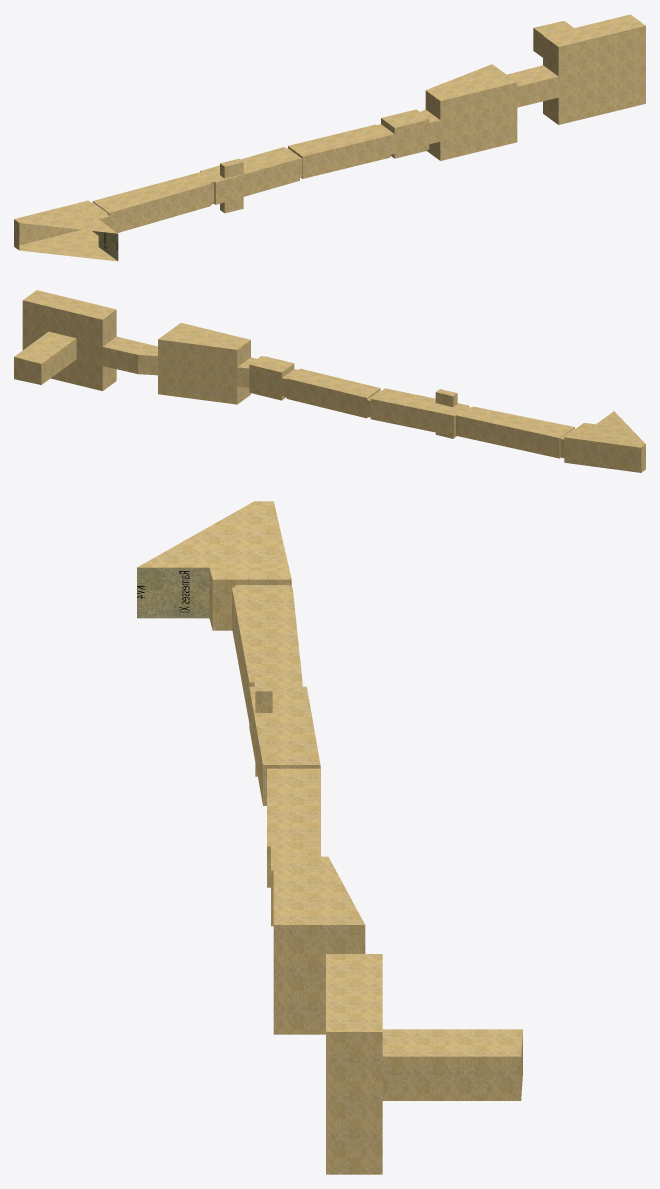
The model's file is KV4-ASE.obj.
The picture shows the model from 3 angles, top to bottom: view 1: azimuth 30°, elevation 25°; view 2: azimuth 150°, elevation 25°; view 3: azimuth 270°, elevation 25°; orthographic projection. The views are drawn at different scales.
Parts seen in each view (by area): view 1: mat0model0surf11, mat0model0surf22, mat0model0surf55, mat0model0surf71, mat0model0surf43, mat0model0surf51, mat0model0surf21, mat0model0surf81, mat0model0surf84, mat0model0surf2, mat0model0surf42, mat0model0surf36 (+5 smaller); view 2: mat0model0surf24, mat0model0surf3, mat0model0surf33, mat0model0surf55, mat0model0surf72, mat0model0surf82, mat0model0surf53, mat0model0surf21, mat0model0surf81, mat0model0surf2, mat0model0surf42, mat0model0surf5 (+8 smaller); view 3: mat0model0surf55, mat0model0surf1, mat0model0surf19, mat0model0surf4, mat0model0surf81, mat0model0surf21, mat0model0surf2, mat0model0surf42, mat0model0surf5, mat3model0surf0, mat0model0surf73, mat0model0surf78.
Part boxes in pixels (<box>): mat0model0surf11: <box>517,26,645,124</box>; mat0model0surf22: <box>425,82,517,160</box>; mat0model0surf55: <box>93,147,299,212</box>; mat0model0surf71: <box>109,184,210,232</box>; mat0model0surf43: <box>302,135,390,178</box>; mat0model0surf51: <box>215,158,299,204</box>; mat0model0surf21: <box>426,64,516,100</box>; mat0model0surf81: <box>14,203,117,233</box>; mat0model0surf84: <box>19,231,117,261</box>; mat0model0surf2: <box>543,14,645,46</box>; mat0model0surf42: <box>288,124,389,156</box>; mat0model0surf36: <box>390,120,425,158</box>; mat0model0surf24: <box>158,339,237,404</box>; mat0model0surf3: <box>22,300,102,390</box>; mat0model0surf33: <box>249,364,366,418</box>; mat0model0surf55: <box>371,388,574,437</box>; mat0model0surf72: <box>460,416,559,458</box>; mat0model0surf82: <box>564,437,641,472</box>; mat0model0surf53: <box>370,399,454,436</box>; mat0model0surf21: <box>158,323,250,349</box>; mat0model0surf81: <box>576,411,645,447</box>; mat0model0surf2: <box>23,290,116,319</box>; mat0model0surf42: <box>287,368,380,397</box>; mat0model0surf5: <box>14,331,75,363</box>; mat0model0surf55: <box>232,587,320,764</box>; mat0model0surf1: <box>326,1032,382,1174</box>; mat0model0surf19: <box>273,925,365,1034</box>; mat0model0surf4: <box>382,1056,521,1100</box>; mat0model0surf81: <box>137,501,288,567</box>; mat0model0surf21: <box>273,856,364,924</box>; mat0model0surf2: <box>326,954,382,1031</box>; mat0model0surf42: <box>267,768,320,846</box>; mat0model0surf5: <box>382,1029,522,1056</box>; mat3model0surf0: <box>137,567,209,618</box>; mat0model0surf73: <box>212,579,291,630</box>; mat0model0surf78: <box>209,567,291,579</box>.
Size of the model in its own units: 4178 by 482 by 1182.
